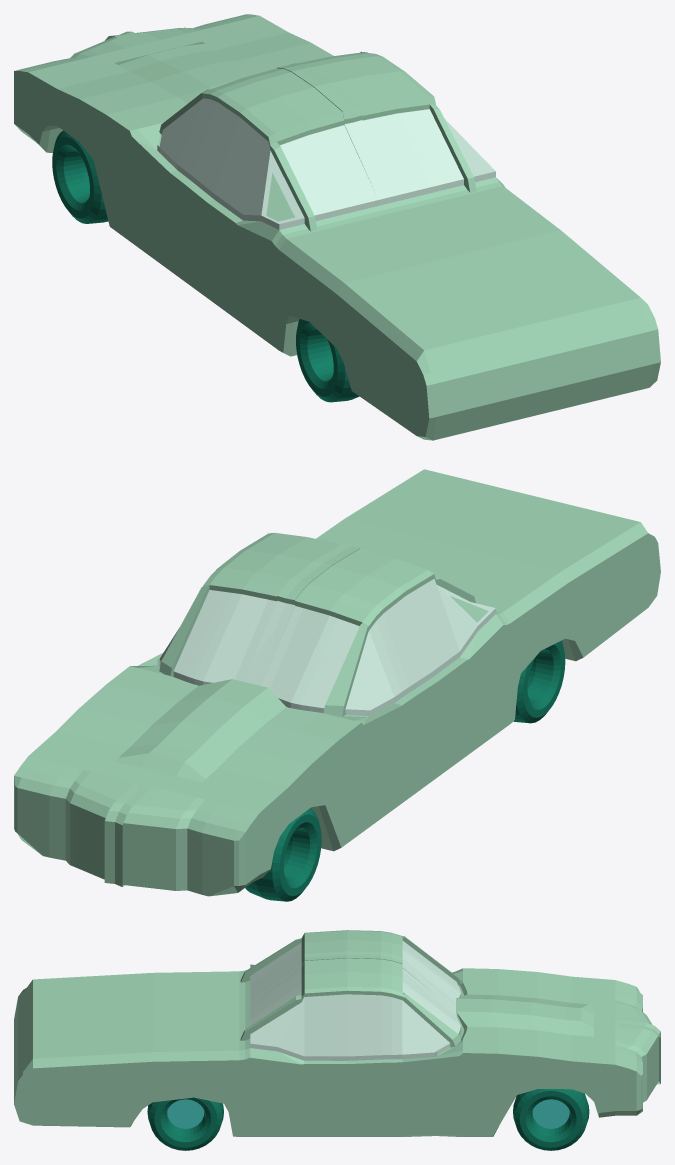
The model's file is car.fbx.
3 views of the same model, one above another, from view 1: azimuth 30°, elevation 25°; view 2: azimuth 150°, elevation 25°; view 3: azimuth 270°, elevation 25° (orthographic). The views are drawn at different scales.
Visible parts, largest first — view 1: Cube, Cube.001, Torus.001, Torus.002; view 2: Cube, Cube.001, Torus.001, Torus.002; view 3: Cube, Cube.001, Torus, Torus.003, Cylinder, Cylinder.001.
Boxes of the visible parts, x1,y1,x2,y2 form: Cube: (14, 14, 660, 440); Cube.001: (157, 98, 495, 229); Torus.001: (52, 130, 108, 223); Torus.002: (296, 319, 359, 402); Cube: (14, 469, 660, 896); Cube.001: (157, 578, 495, 716); Torus.001: (245, 808, 321, 901); Torus.002: (513, 640, 565, 723); Cube: (14, 930, 660, 1136); Cube.001: (250, 941, 460, 1060); Torus: (513, 1089, 589, 1150); Torus.003: (147, 1097, 223, 1150); Cylinder: (532, 1099, 569, 1128); Cylinder.001: (167, 1099, 204, 1128).
Bounding box in the file's own units: 324 × 283 × 1047.
